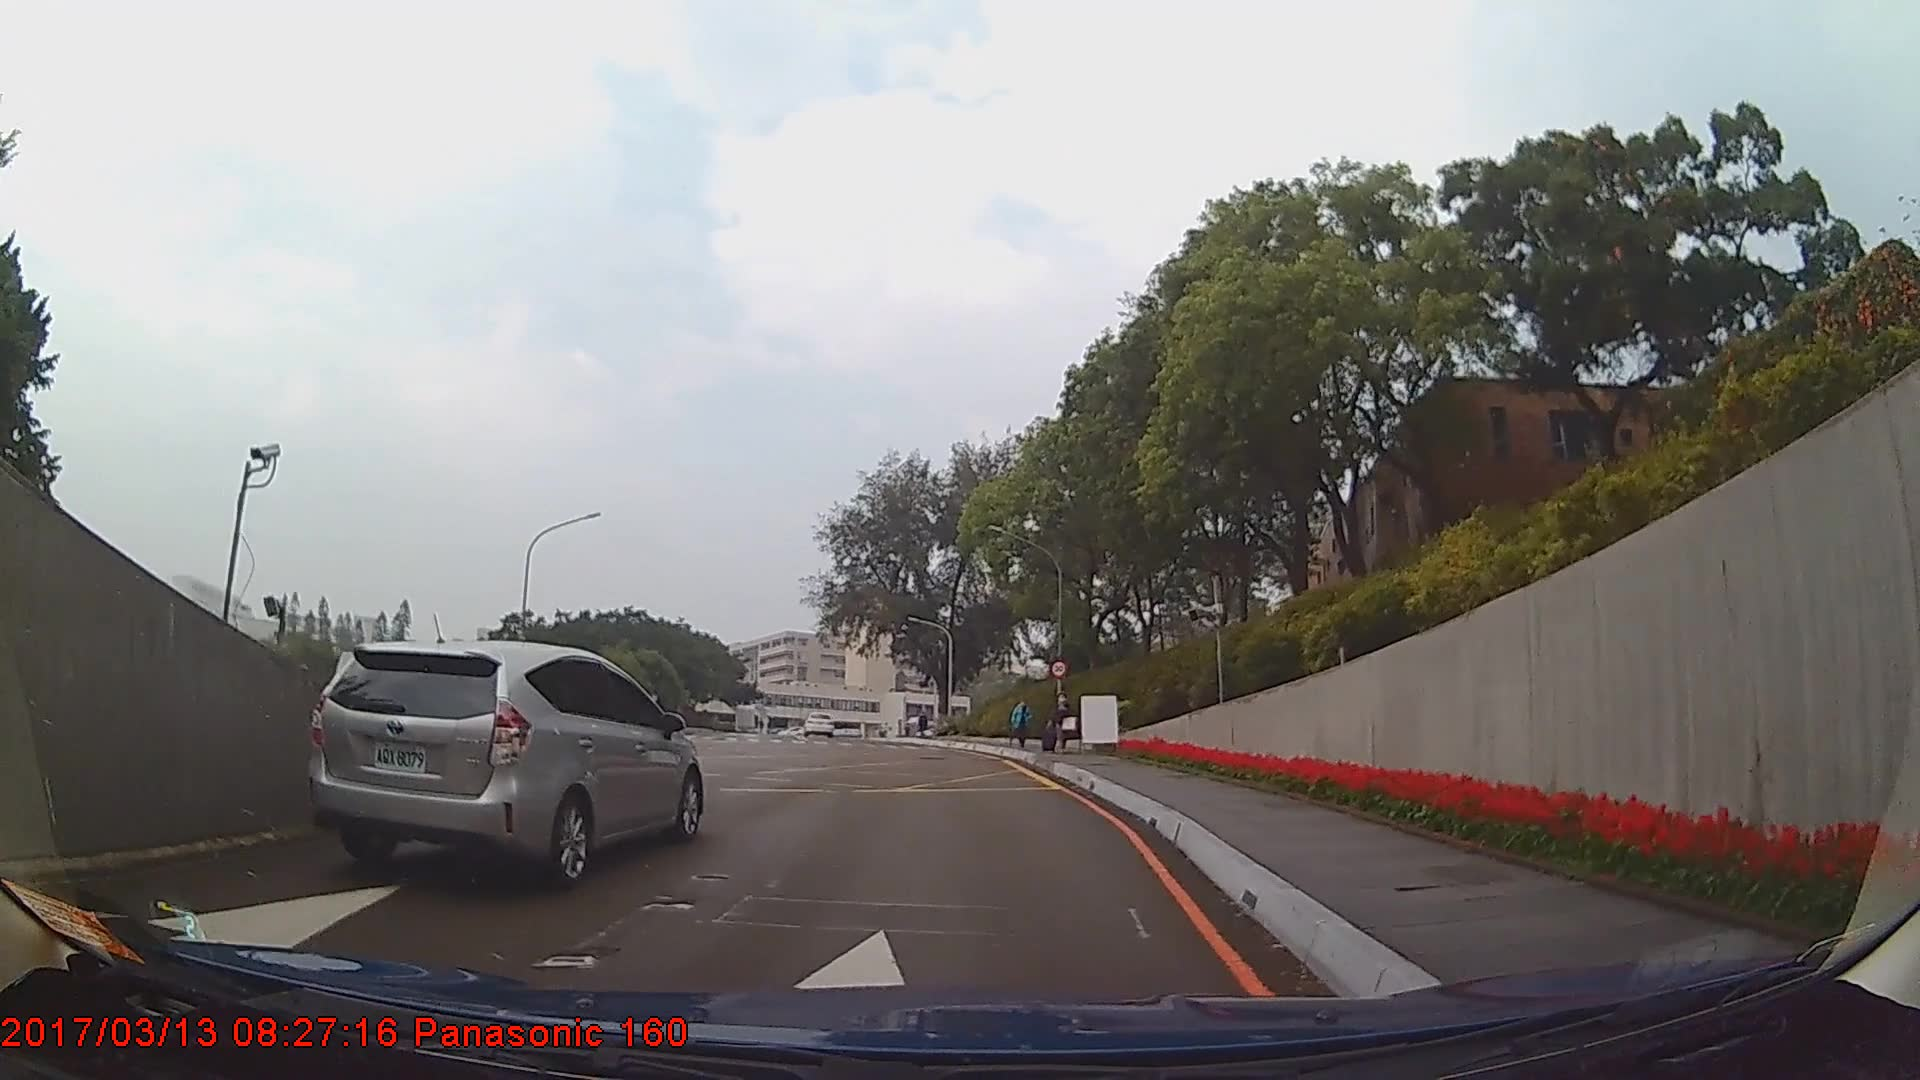pedestrian: (1041, 692, 1079, 756), (1012, 701, 1034, 754)
vehicle: (302, 641, 704, 888), (802, 709, 833, 736)
